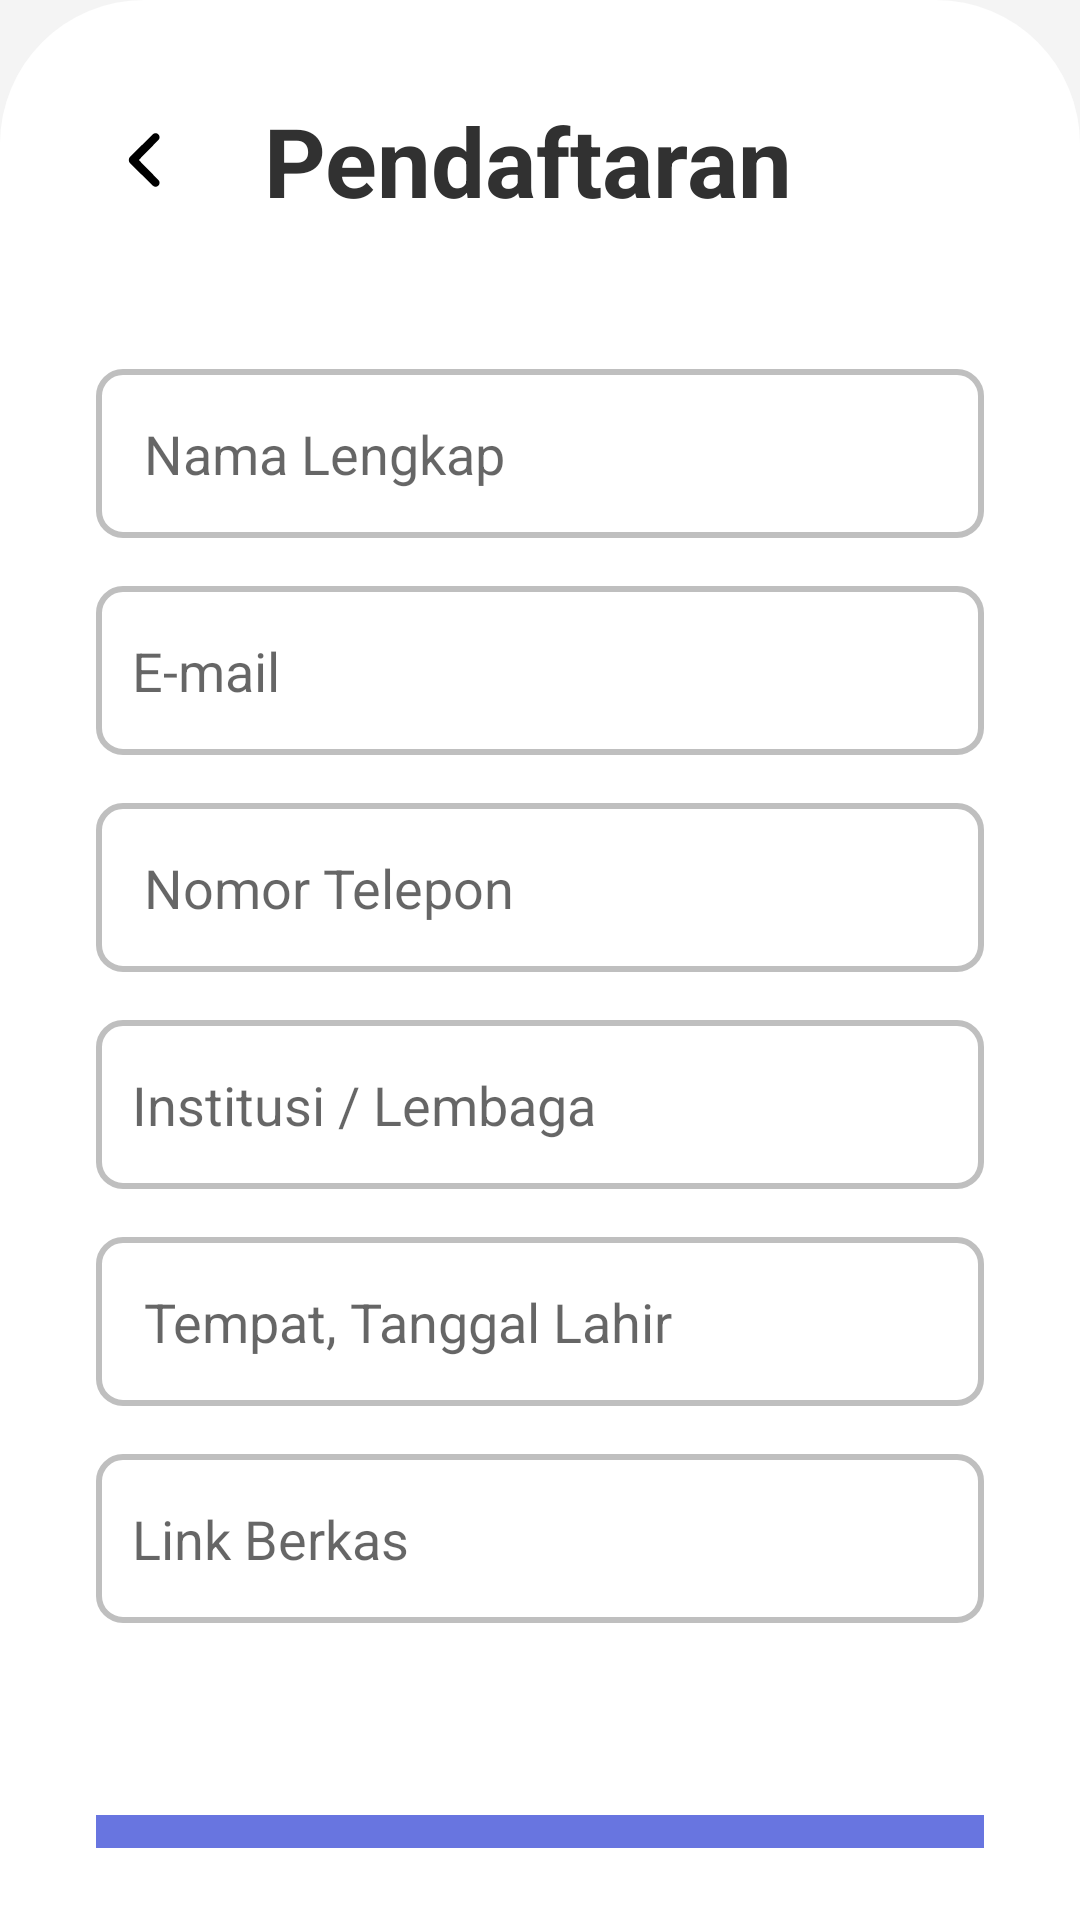

Icons on this 1080x1920 Android screen, each with the point to tap as [x,y]:
left arrow: [144,160]
